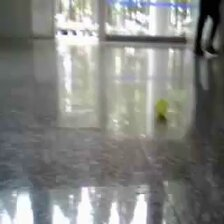tennis: (154, 99, 168, 115)
